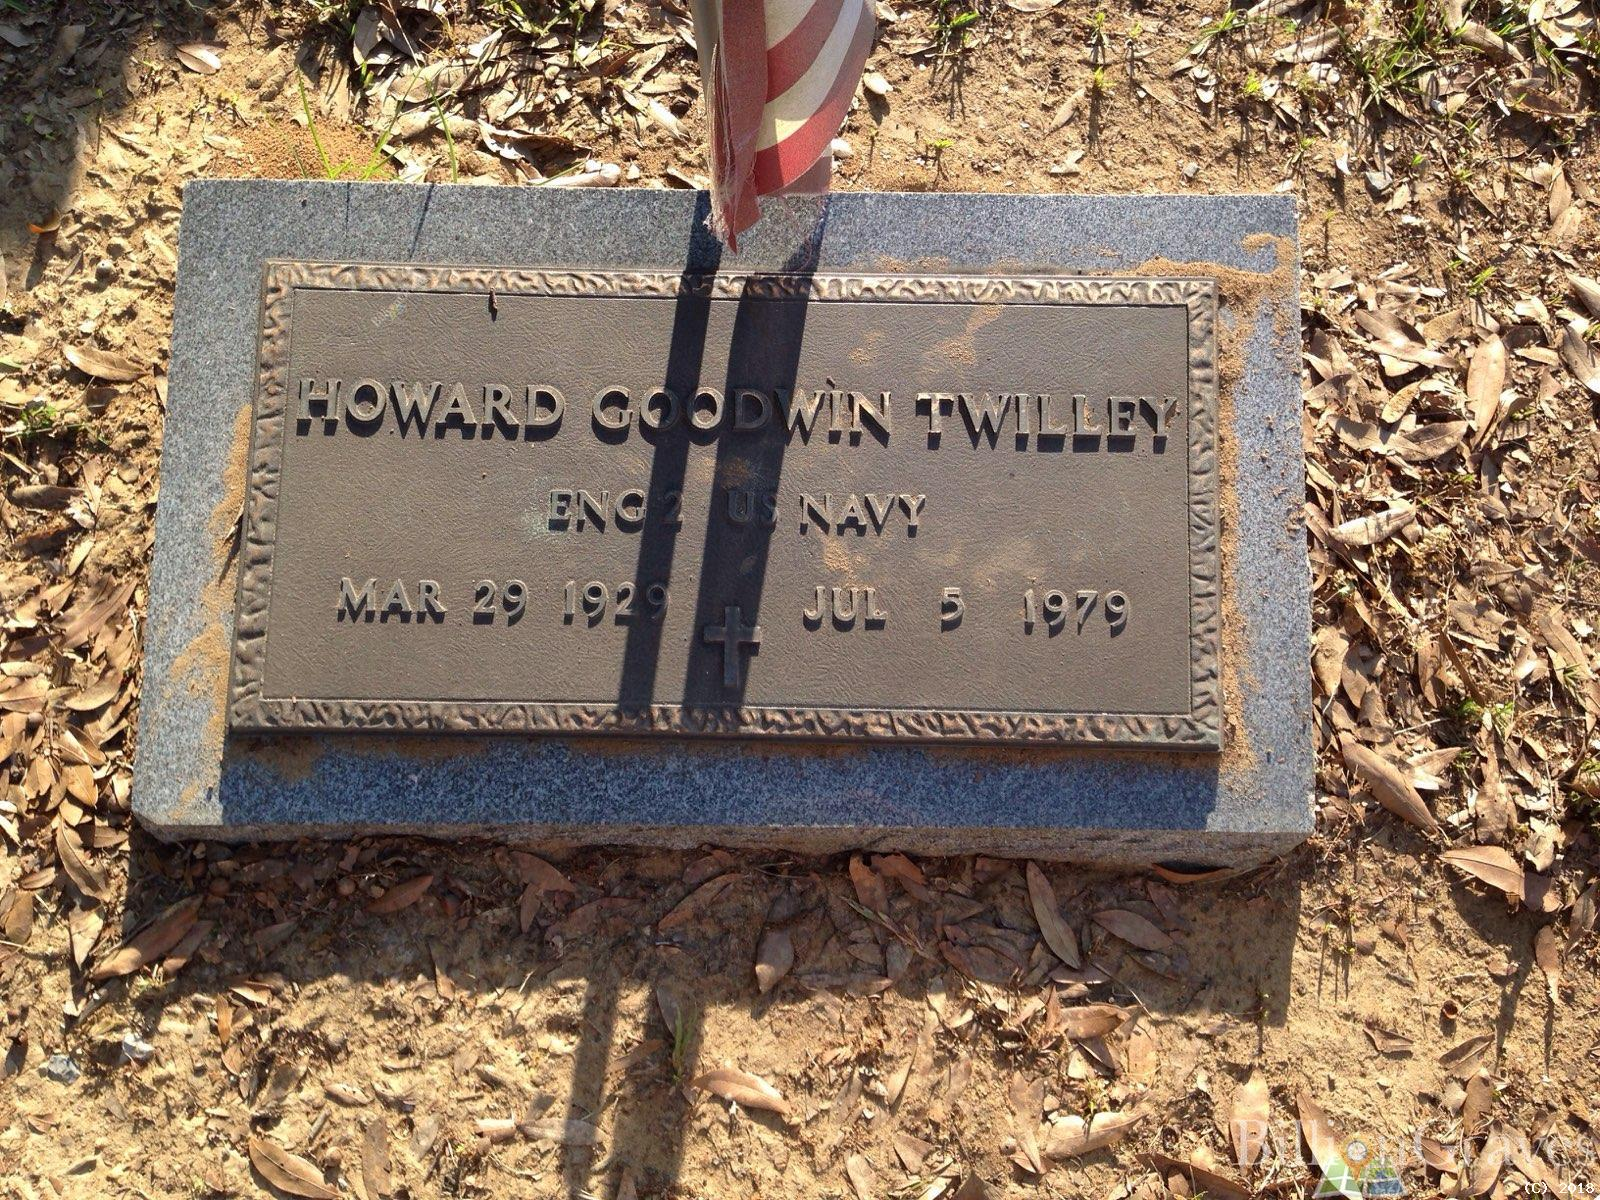flat: (231, 250, 1225, 751)
